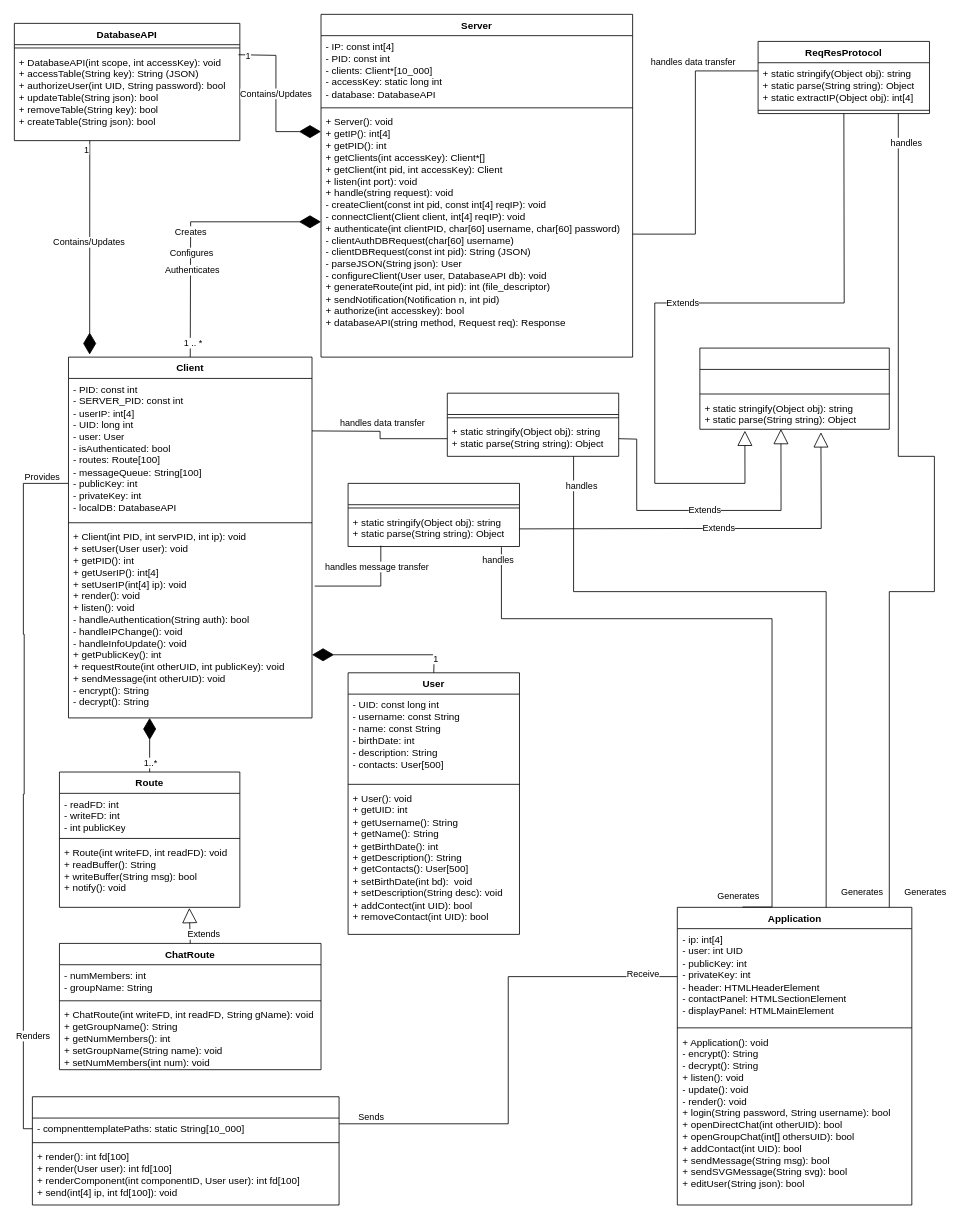
Image size: 961x1222. Some labels were removed from this diagram. Each missing label, with the box of its shape:
<<Protocol>>: (699, 347, 889, 429)
ClientProtocol: (446, 392, 619, 456)
MessageProtocol: (347, 483, 519, 547)
Renderer: (32, 1096, 339, 1205)
